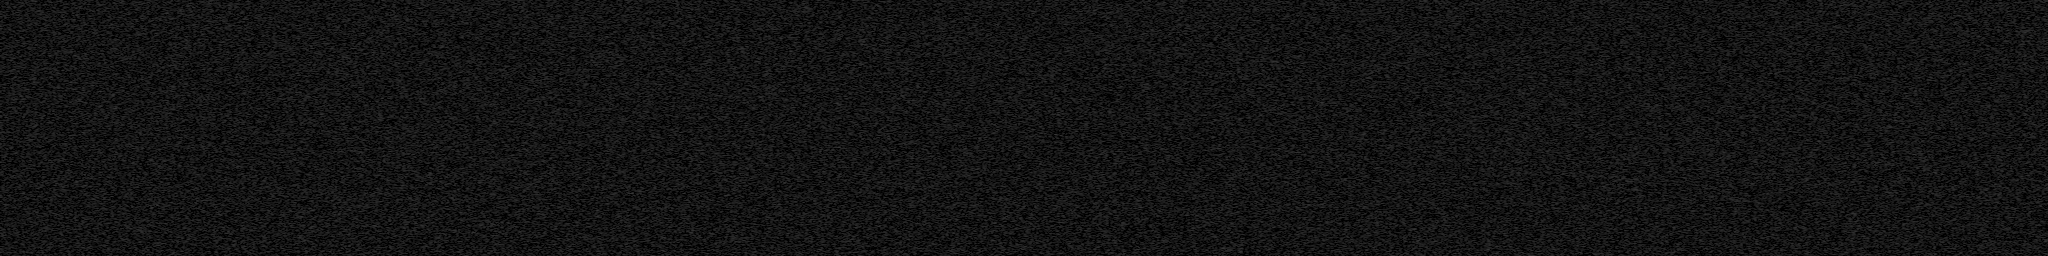wv_am: (7, 132, 12, 256), (7, 60, 12, 125), (7, 0, 12, 57), (7, 125, 12, 131)
wv_dvbt_8kfft: (872, 0, 1664, 256)
wv_lsb: (692, 33, 697, 135), (694, 182, 697, 231), (694, 135, 697, 163), (1864, 33, 1869, 54), (694, 232, 697, 256), (694, 13, 697, 31), (1865, 209, 1869, 219), (694, 3, 697, 12), (694, 165, 697, 172), (694, 174, 697, 180), (1865, 221, 1869, 225), (1865, 226, 1868, 231)
wv_wbfm: (14, 0, 31, 256)
